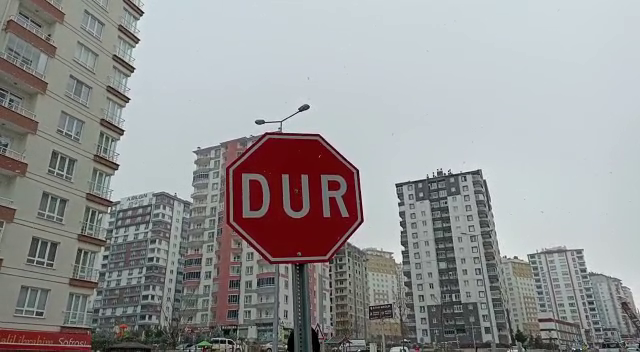stop: (223, 130, 368, 266)
